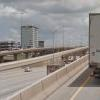Bridge: (5, 38, 88, 98)
